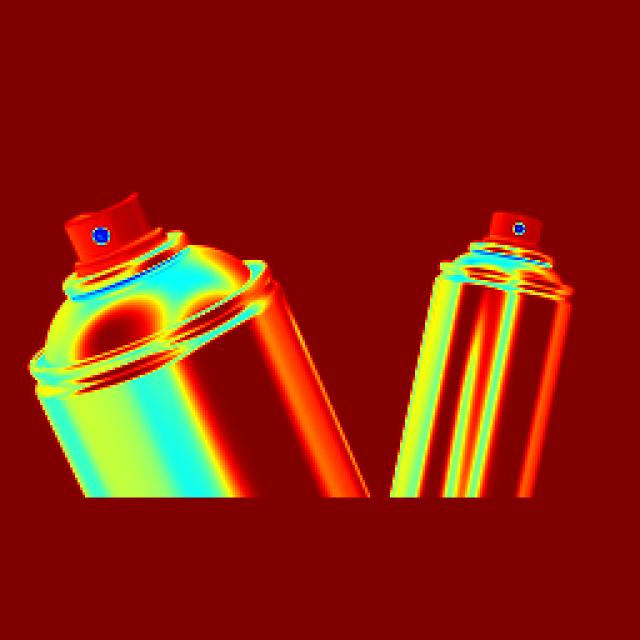Aerosol Cans: (27, 183, 376, 502), (393, 183, 579, 499)
